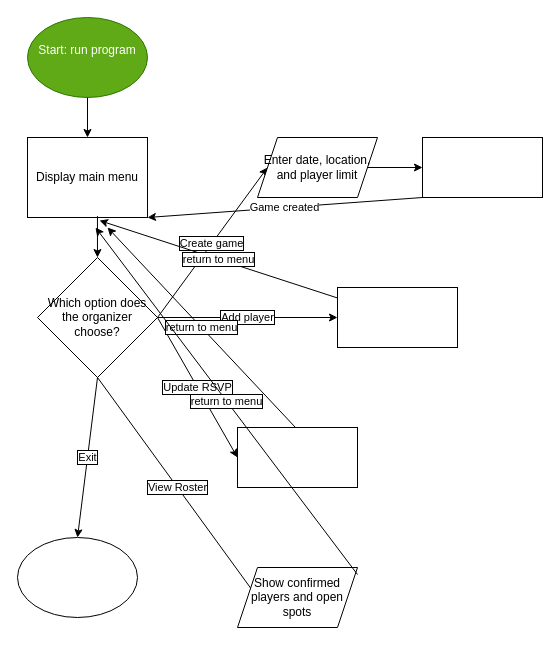
The diagram is 560 pixels wide and 645 high, and some of its shapes have lost their labels. The centre of each missing label's shape, as x and y in pixels:
Add player and RSVP to active game: point (397, 317)
Change existing player's RSVP: point (297, 457)
Create game using the entered details: point (482, 167)
